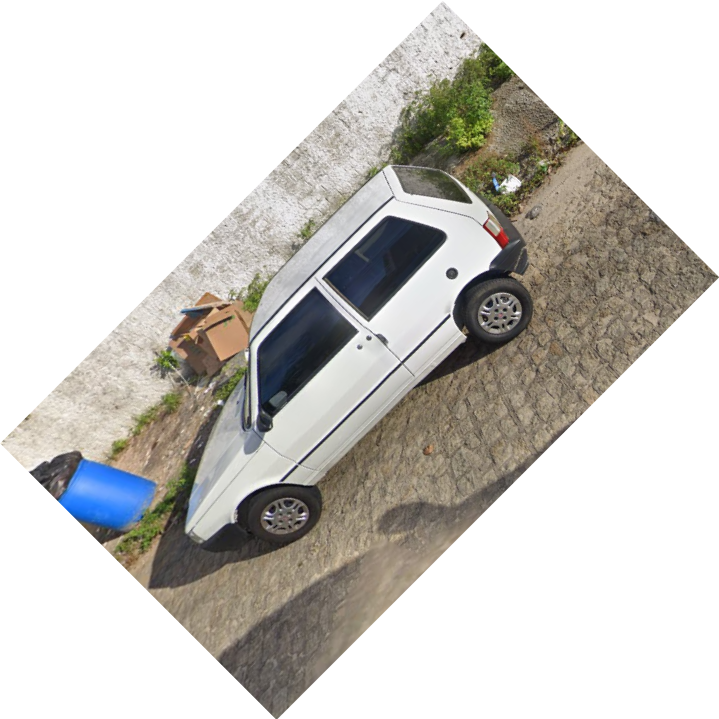car: (179, 161, 537, 558)
